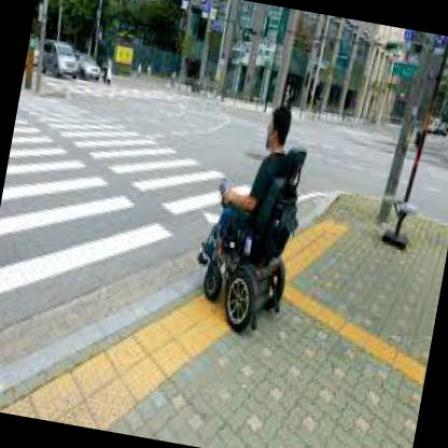wheel: (188, 95, 316, 335)
